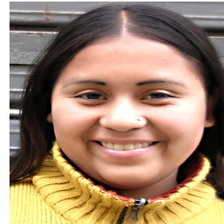no_mask: (57, 49, 202, 184)
